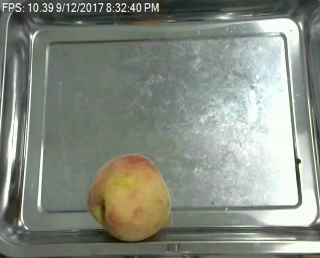Peach: (88, 153, 171, 241)
